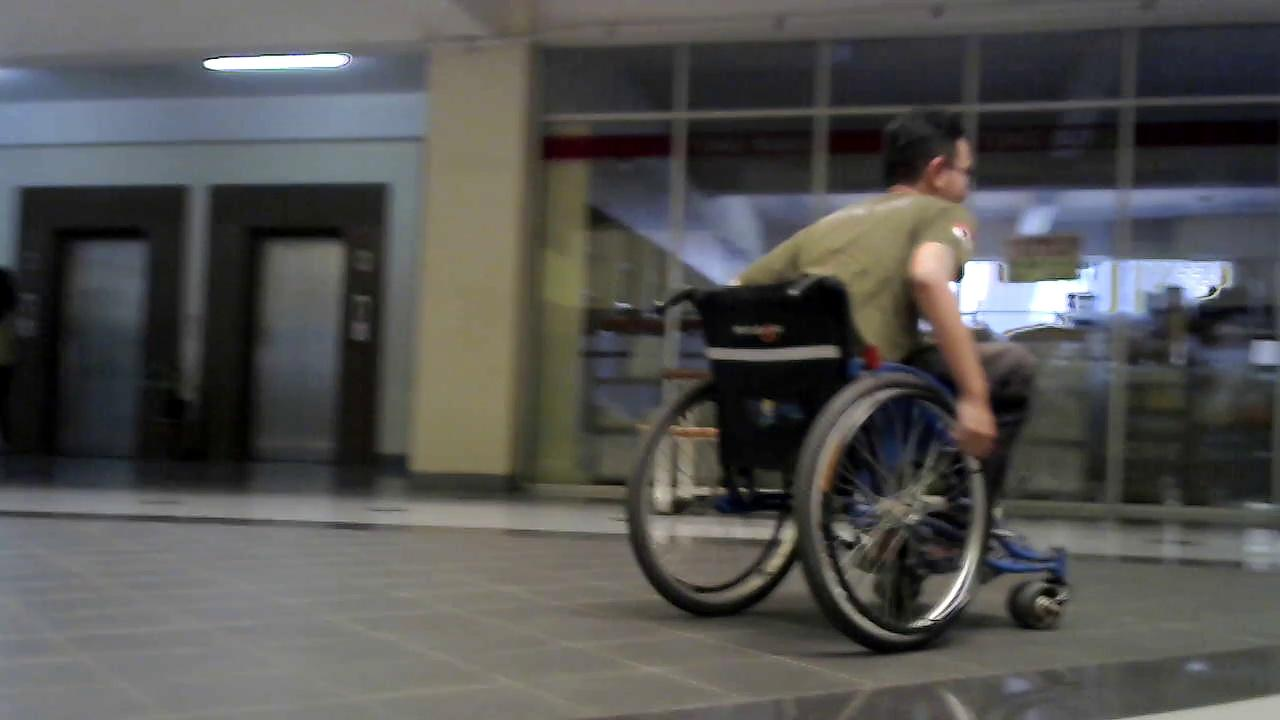person: (733, 111, 1003, 508), (0, 268, 21, 456)
wheelchair: (584, 269, 1086, 668)
